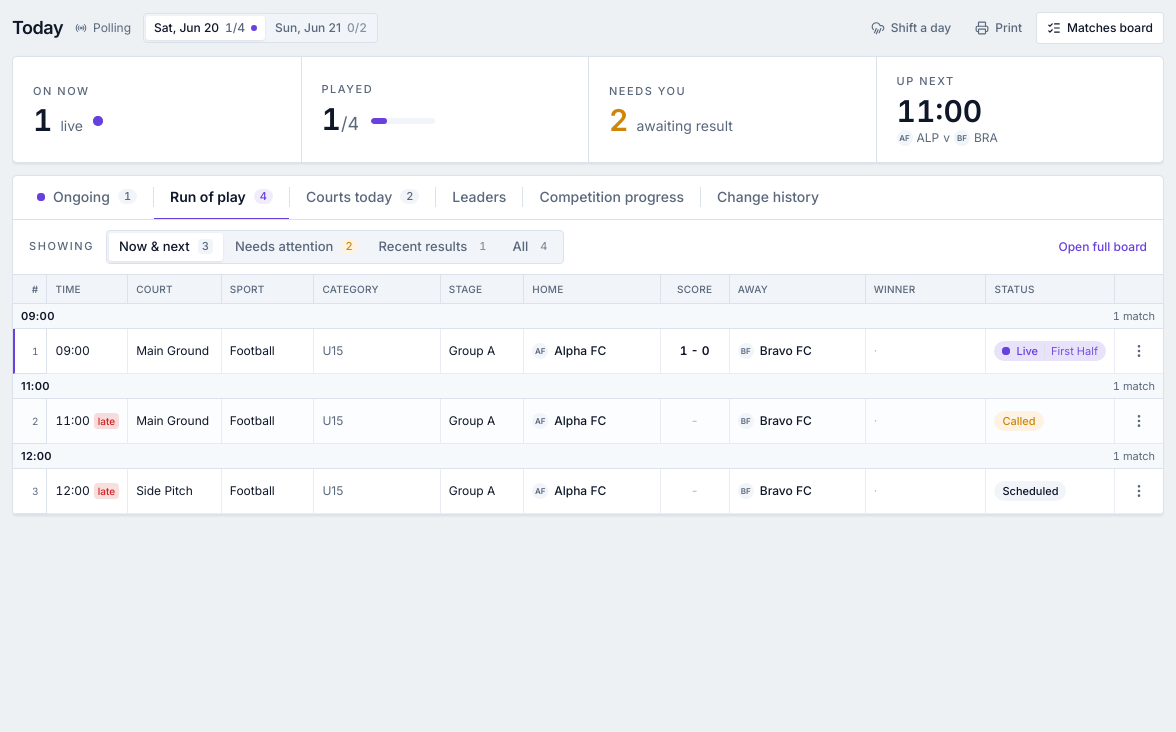
Test: ControlRoomPage › the courts tab lists every venue, and a court opens its own day
Click the tab with test id "board-tab-courts" at (363, 198), box [290,176,435,220]
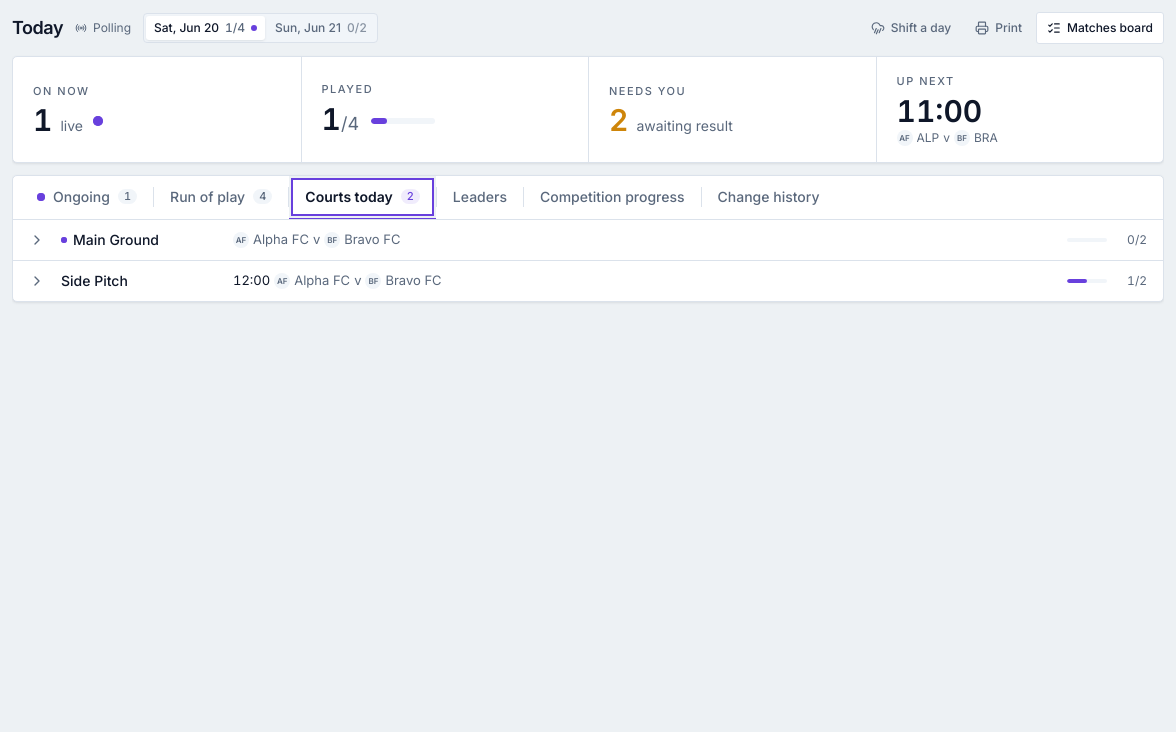
Check: the text "Main Ground" is shown, box [73,230,159,250]
Check: the text "Side Pitch" is shown, box [61,270,128,290]
Check: the row with test id "tile-m1" is gone
Click the button with test id "court-row-Main Ground" at (116, 239), box [13,220,1163,260]
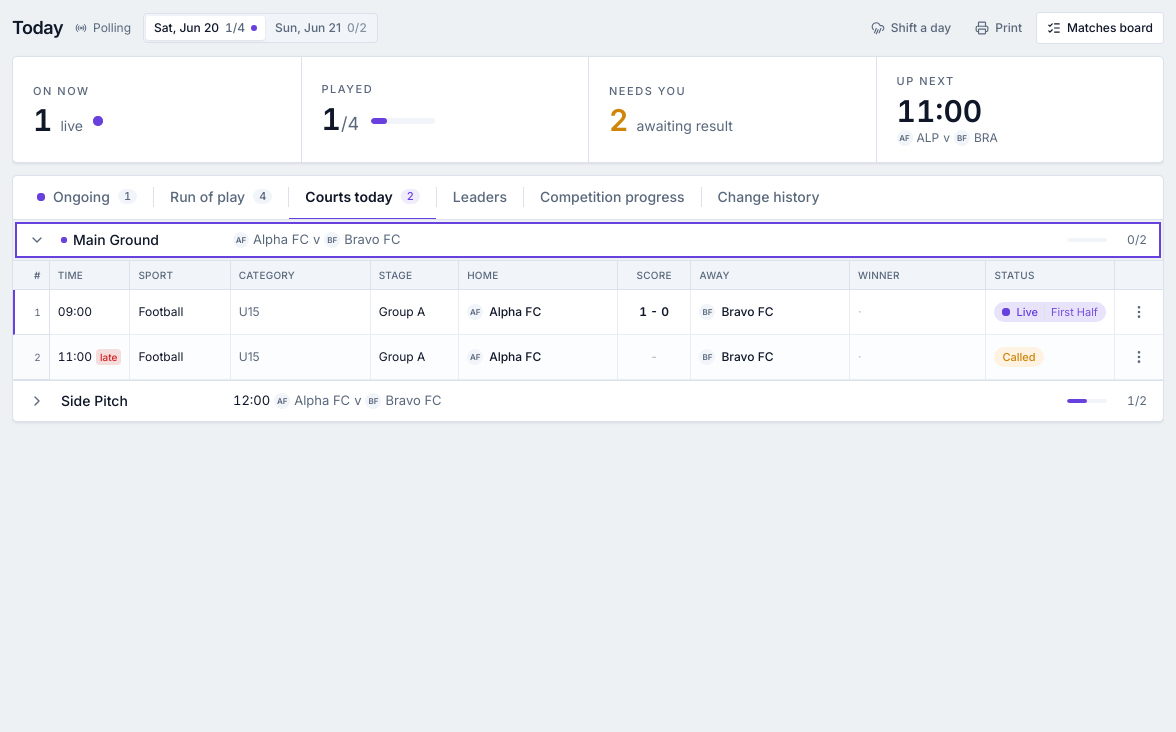
Check: the button with test id "court-row-Main Ground" is expanded
Check: the row with test id "tile-m1" is shown, box [13,290,1163,334]
Check: the row with test id "tile-m2" is shown, box [13,334,1163,380]
// Clicking again closes it.
Click the button with test id "court-row-Main Ground" at (116, 239), box [13,220,1163,260]
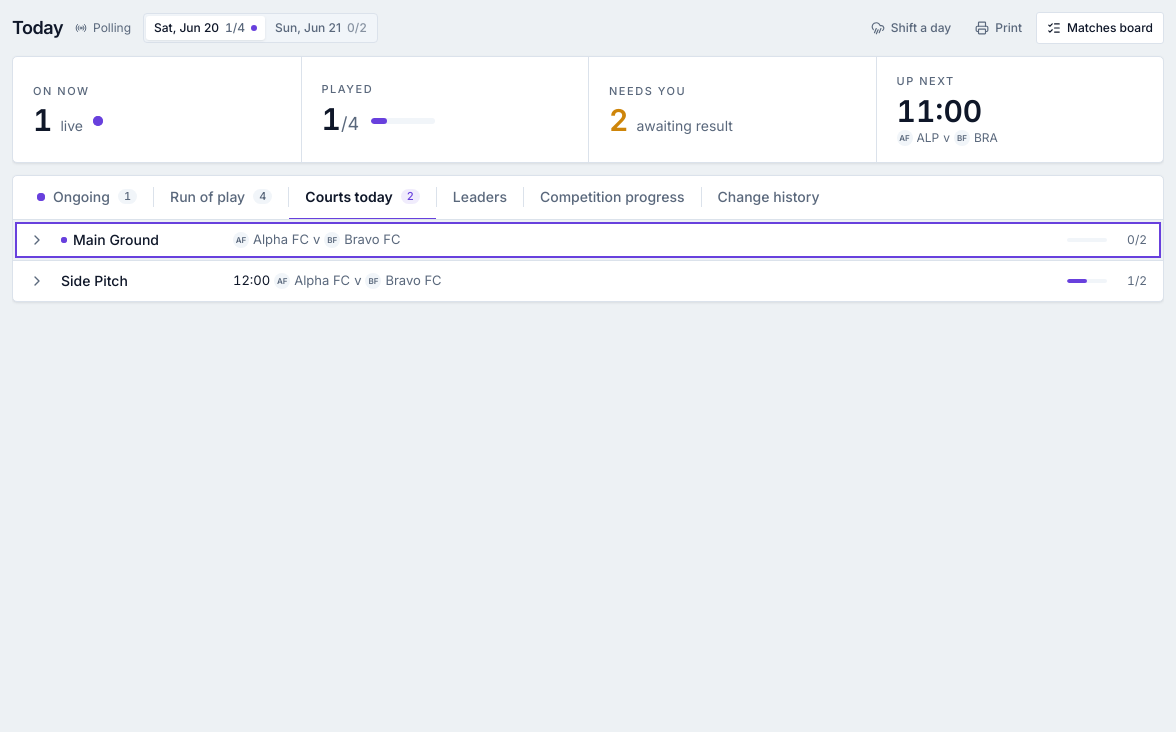
Check: the row with test id "tile-m1" is gone
